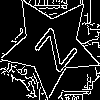Z: (26, 21, 79, 73)
